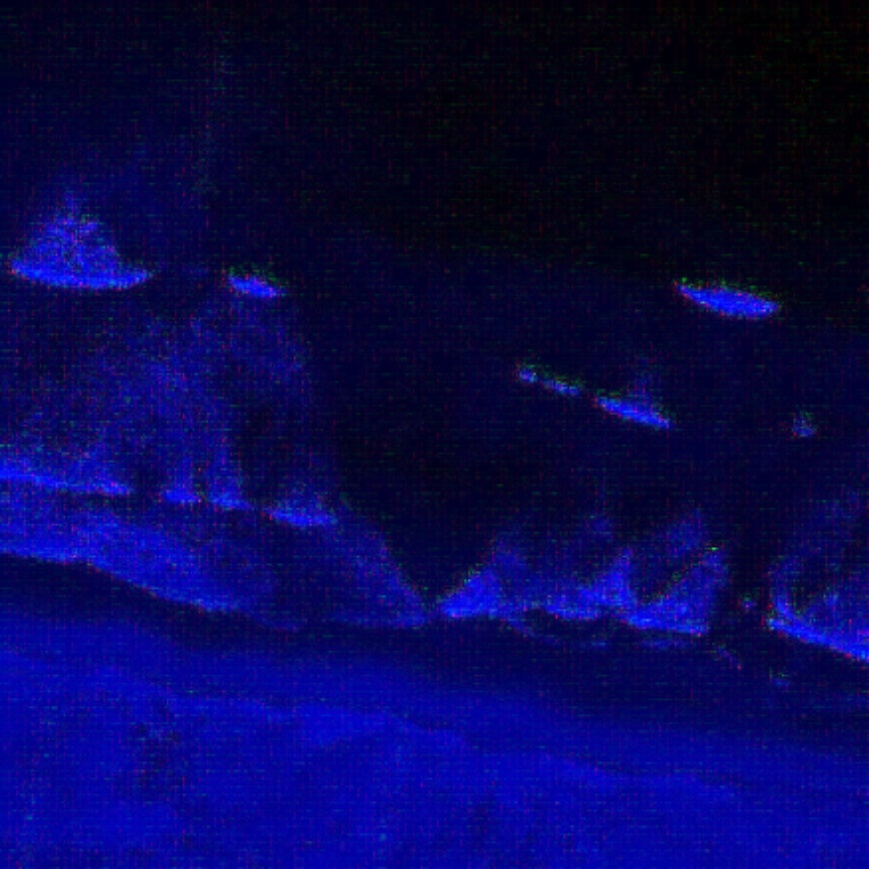rip_current: (247, 216, 571, 595)
